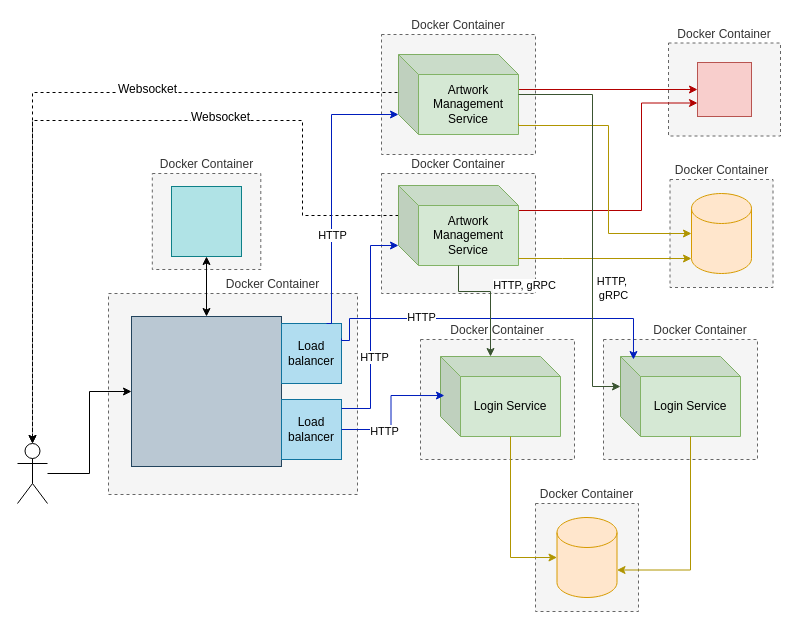
The diagram is 798 pixels wide and 629 high, and some of its shapes have lost their labels. Here are the shapes that lost their labels. From the top down, the centre of each, then its label:
[724,89]: Cache
[206,221]: Service Discovery
[721,233]: Art DB
[206,391]: Gateway
[32,473]: User
[586,557]: Users DB
